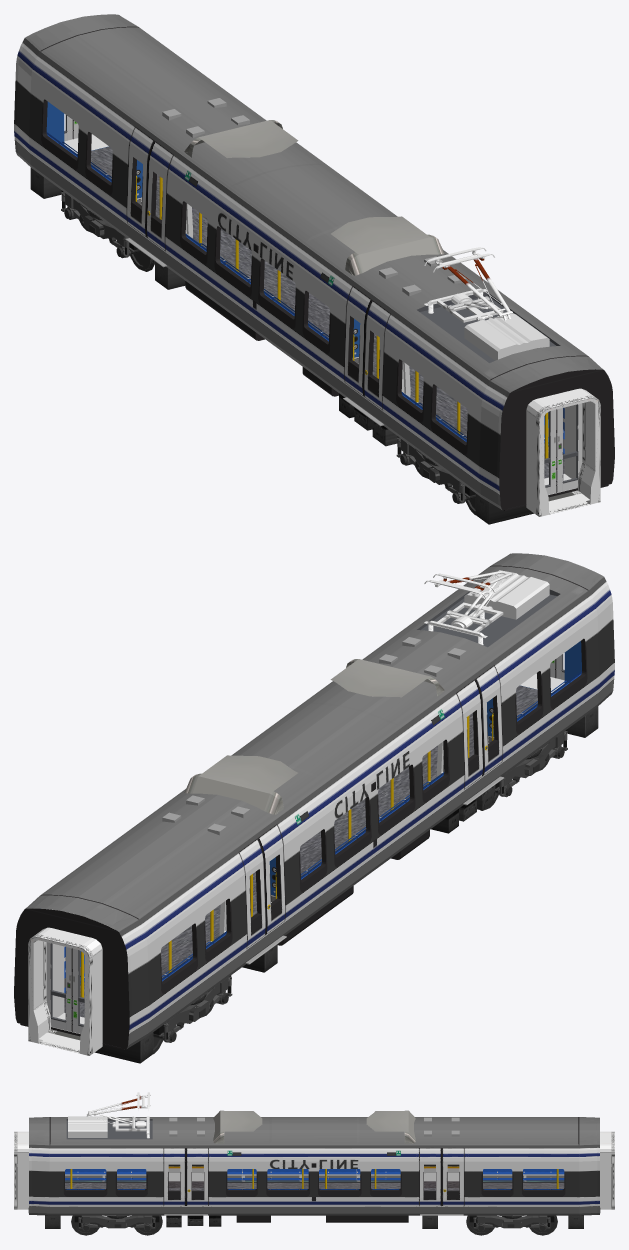
Rendered from module_city_panto_5m.obj.
The picture shows the model from 3 angles, top to bottom: view 1: azimuth 30°, elevation 25°; view 2: azimuth 150°, elevation 25°; view 3: azimuth 270°, elevation 25°; orthographic projection. The views are drawn at different scales.
Visible parts, largest first — view 1: m_side, m_jibung, m_aircon, m_mak, m_backout, m_floor, m_habu, m_dt71, m_door_RB, m_door_RF, m_panto6m, m_interiors (+4 smaller); view 2: m_side, m_jibung, m_aircon, m_mak, m_backout, m_floor, m_habu, m_door_RB, m_door_RF, m_dt71, m_panto6m, m_interiors (+4 smaller); view 3: m_side, m_jibung, m_oscarchair, m_aircon, m_dt71, m_mak, m_floor, m_habu, m_door_LB, m_door_LF, m_heater, m_panto6m (+3 smaller).
Part boxes in pixels (x1=…): m_side: x1=14, y1=15, x2=614, y2=510; m_jibung: x1=25, y1=14, x2=603, y2=392; m_aircon: x1=162, y1=98, x2=549, y2=360; m_mak: x1=64, y1=130, x2=600, y2=516; m_backout: x1=503, y1=369, x2=610, y2=509; m_floor: x1=90, y1=146, x2=564, y2=478; m_habu: x1=30, y1=167, x2=608, y2=524; m_dt71: x1=61, y1=190, x2=475, y2=514; m_door_RB: x1=127, y1=143, x2=366, y2=409; m_door_RF: x1=146, y1=157, x2=384, y2=422; m_panto6m: x1=424, y1=247, x2=512, y2=322; m_interiors: x1=64, y1=115, x2=582, y2=494; m_side: x1=14, y1=555, x2=614, y2=1049; m_jibung: x1=25, y1=553, x2=603, y2=931; m_aircon: x1=162, y1=570, x2=549, y2=835; m_mak: x1=28, y1=669, x2=564, y2=1055; m_backout: x1=18, y1=908, x2=125, y2=1048; m_floor: x1=64, y1=685, x2=537, y2=1017; m_habu: x1=20, y1=706, x2=598, y2=1063; m_door_RB: x1=245, y1=695, x2=483, y2=961; m_door_RF: x1=263, y1=681, x2=502, y2=947; m_dt71: x1=153, y1=729, x2=567, y2=1053; m_panto6m: x1=424, y1=570, x2=512, y2=644; m_interiors: x1=46, y1=654, x2=564, y2=1033; m_side: x1=29, y1=1117, x2=599, y2=1215; m_jibung: x1=29, y1=1117, x2=599, y2=1145; m_oscarchair: x1=65, y1=1169, x2=564, y2=1189; m_aircon: x1=68, y1=1110, x2=459, y2=1143; m_dt71: x1=71, y1=1215, x2=557, y2=1235; m_mak: x1=14, y1=1131, x2=614, y2=1209; m_floor: x1=65, y1=1181, x2=564, y2=1190; m_habu: x1=28, y1=1208, x2=600, y2=1228; m_door_LB: x1=186, y1=1158, x2=463, y2=1213; m_door_LF: x1=164, y1=1158, x2=441, y2=1213; m_heater: x1=65, y1=1172, x2=564, y2=1182; m_panto6m: x1=86, y1=1092, x2=150, y2=1138.
Size of the model in its own units: 2.88 by 4.79 by 20.53.
27 materials, 27 textured.
